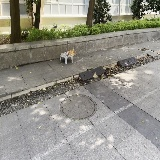fire: (67, 48, 75, 56)
